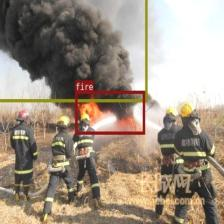fire: (75, 90, 145, 134)
smoke: (0, 0, 147, 102)
